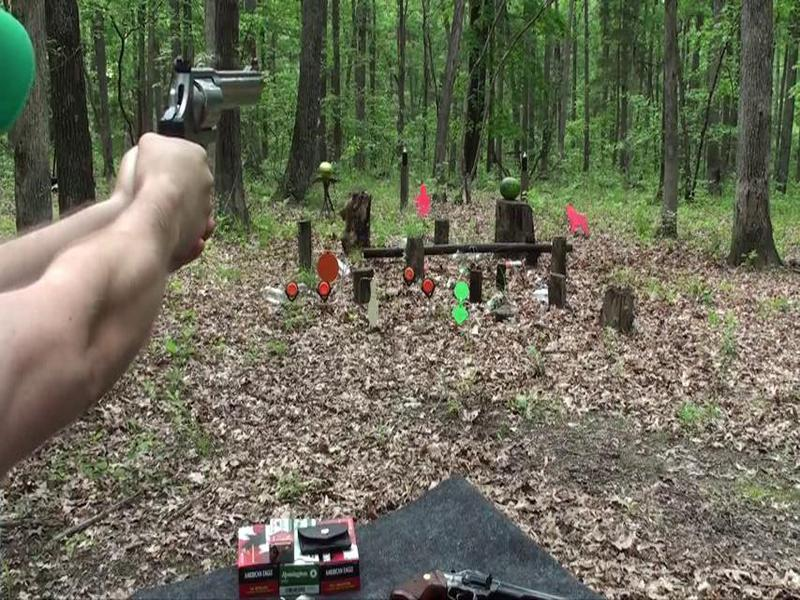Revolver: (135, 54, 271, 177)
